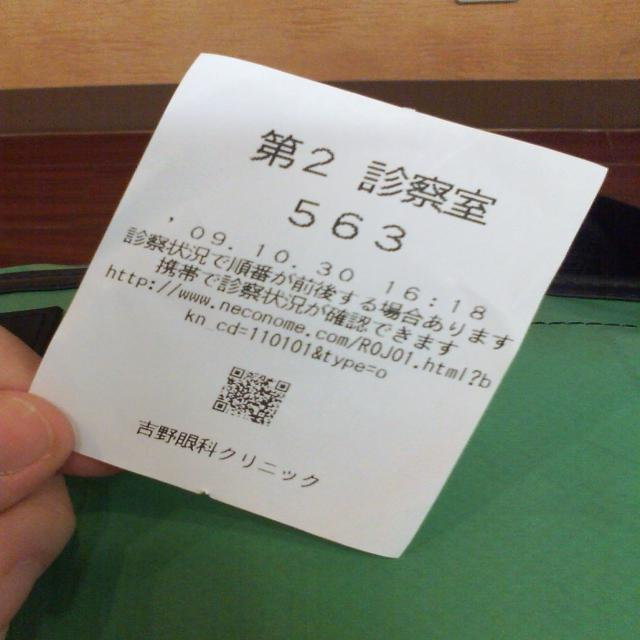qrcode: (213, 368, 291, 427)
